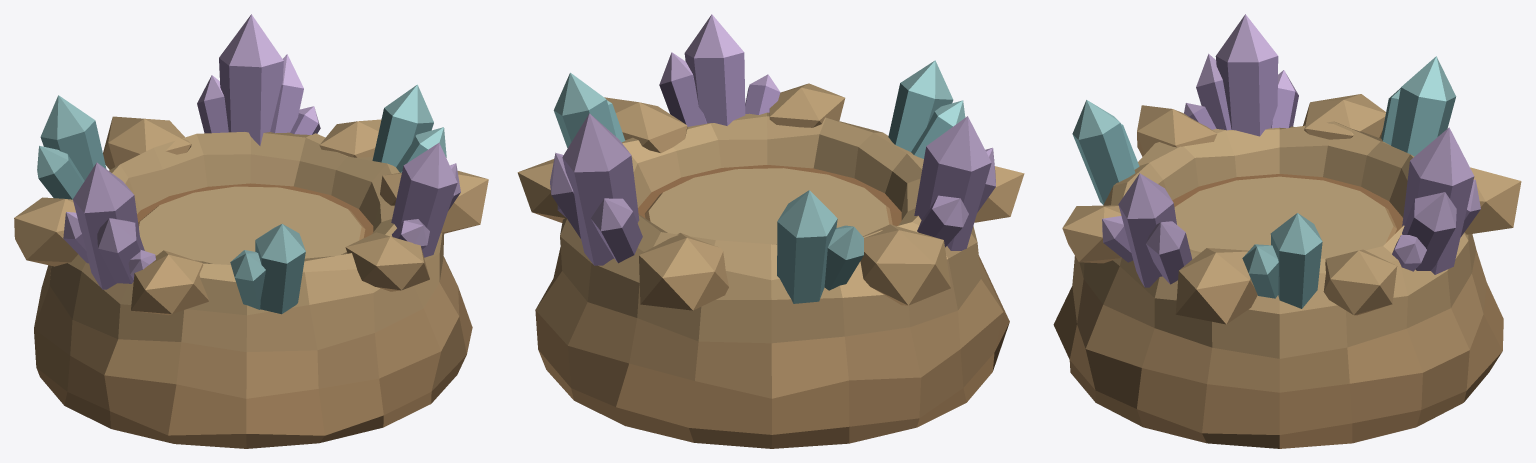
The model's file is habitat_crystal_grotto.fbx.
3 renders of one model, left to right at view 1: azimuth 30°, elevation 25°; view 2: azimuth 150°, elevation 25°; view 3: azimuth 270°, elevation 25°, orthographic. The views are drawn at different scales.
Parts seen in each view (by area): view 1: habitat_crystal_grotto; view 2: habitat_crystal_grotto; view 3: habitat_crystal_grotto.
Boxes of the visible parts, x1=… form: habitat_crystal_grotto: x1=14, y1=14, x2=488, y2=448; habitat_crystal_grotto: x1=517, y1=14, x2=1024, y2=448; habitat_crystal_grotto: x1=1053, y1=14, x2=1521, y2=448.
Size of the model in its own units: 7.8 by 5 by 7.8.
